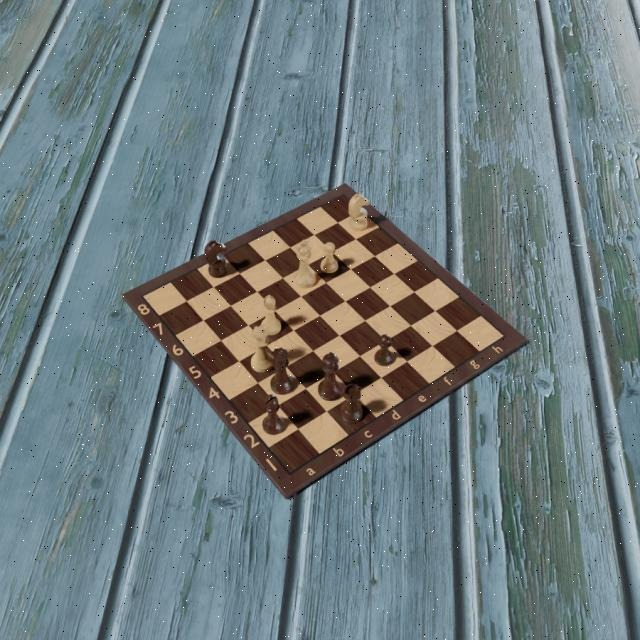black-bishop: (262, 393, 284, 435)
black-knight: (204, 240, 228, 278)
black-pawn: (373, 333, 395, 366)
black-queen: (269, 346, 295, 396)
black-rook: (340, 382, 363, 425)
white-bishop: (260, 293, 282, 338)
white-king: (317, 350, 342, 402), (293, 239, 316, 289)
white-knight: (347, 191, 369, 233)
white-pawn: (318, 241, 338, 275)
white-queen: (250, 324, 274, 374)
